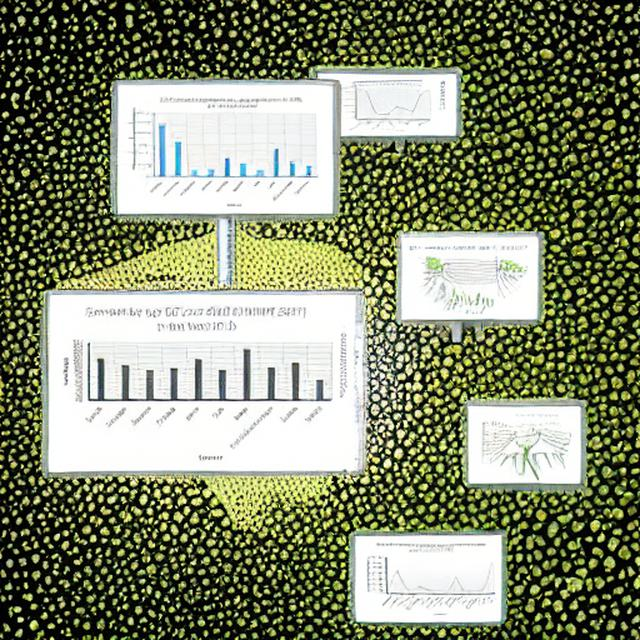Graph: (54, 300, 338, 467), (130, 94, 320, 212), (363, 540, 499, 620), (342, 78, 433, 132), (439, 282, 497, 317)
